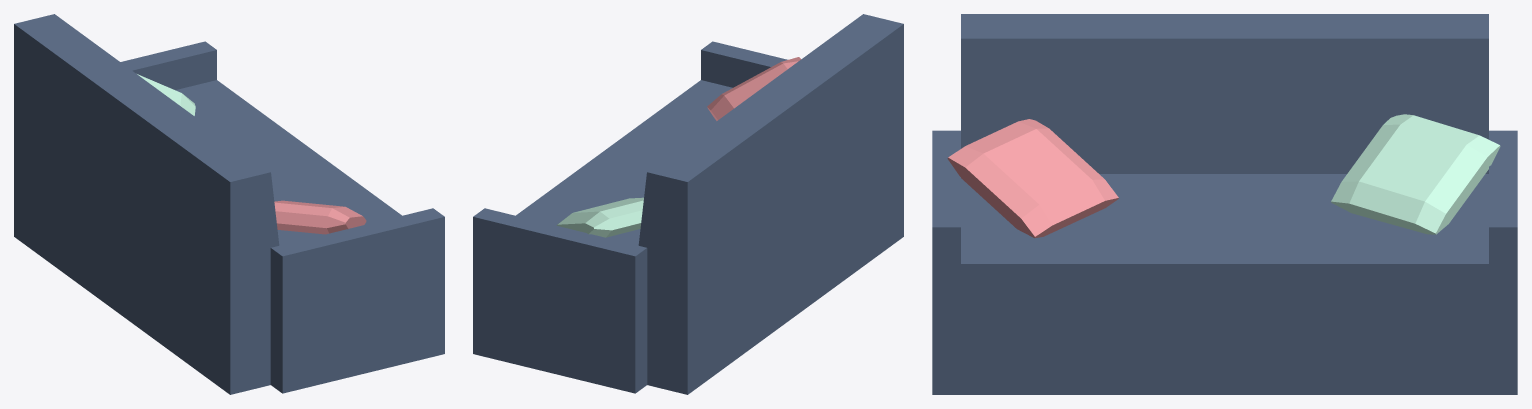
File: couch.fbx
The picture shows the model from 3 angles, left to right: view 1: azimuth 30°, elevation 25°; view 2: azimuth 150°, elevation 25°; view 3: azimuth 270°, elevation 25°; orthographic projection. The views are drawn at different scales.
Parts seen in each view (by area): view 1: couch; view 2: couch; view 3: couch.
Part boxes in pixels (left/top/right/bottom): couch: left=14, top=14, right=444, bottom=394; couch: left=473, top=14, right=903, bottom=394; couch: left=932, top=14, right=1517, bottom=394.
Bounding box in the file's own units: 236 × 115 × 116.
